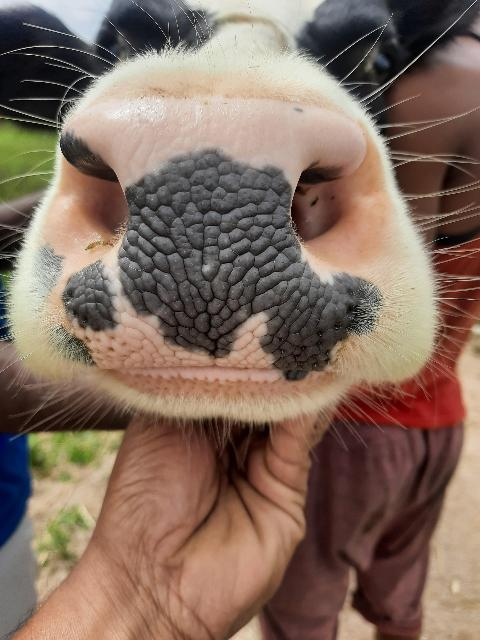Muzzle: (93, 108, 335, 372)
